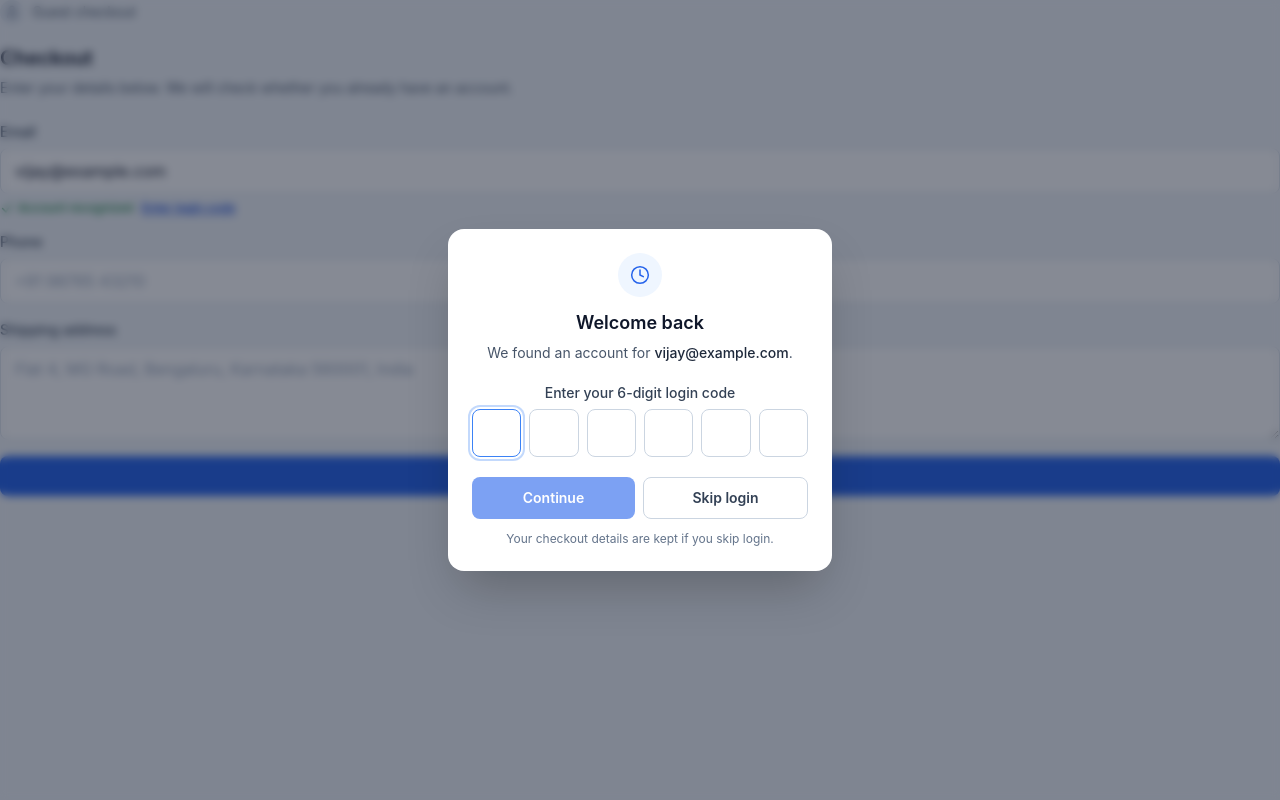
it: CheckoutForm › logs the user in with a correct code and shows their name
Expected: the dialog is shown, x1=448 y1=229 x2=832 y2=571
Type "482193" into the field named "login code digit 1 of 6" at (497, 433), box x1=472 y1=409 x2=521 y2=457
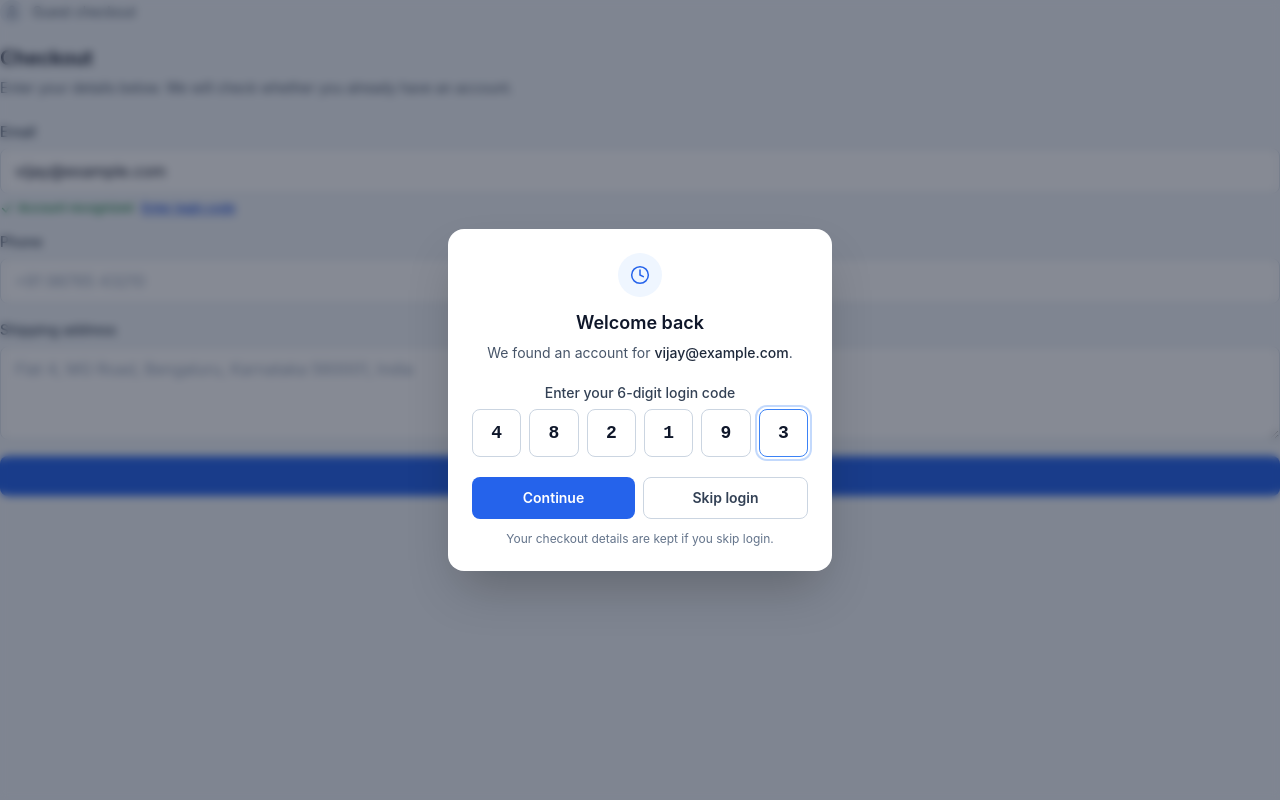
Click the button "Continue" at (554, 498), box x1=472 y1=477 x2=635 y2=519
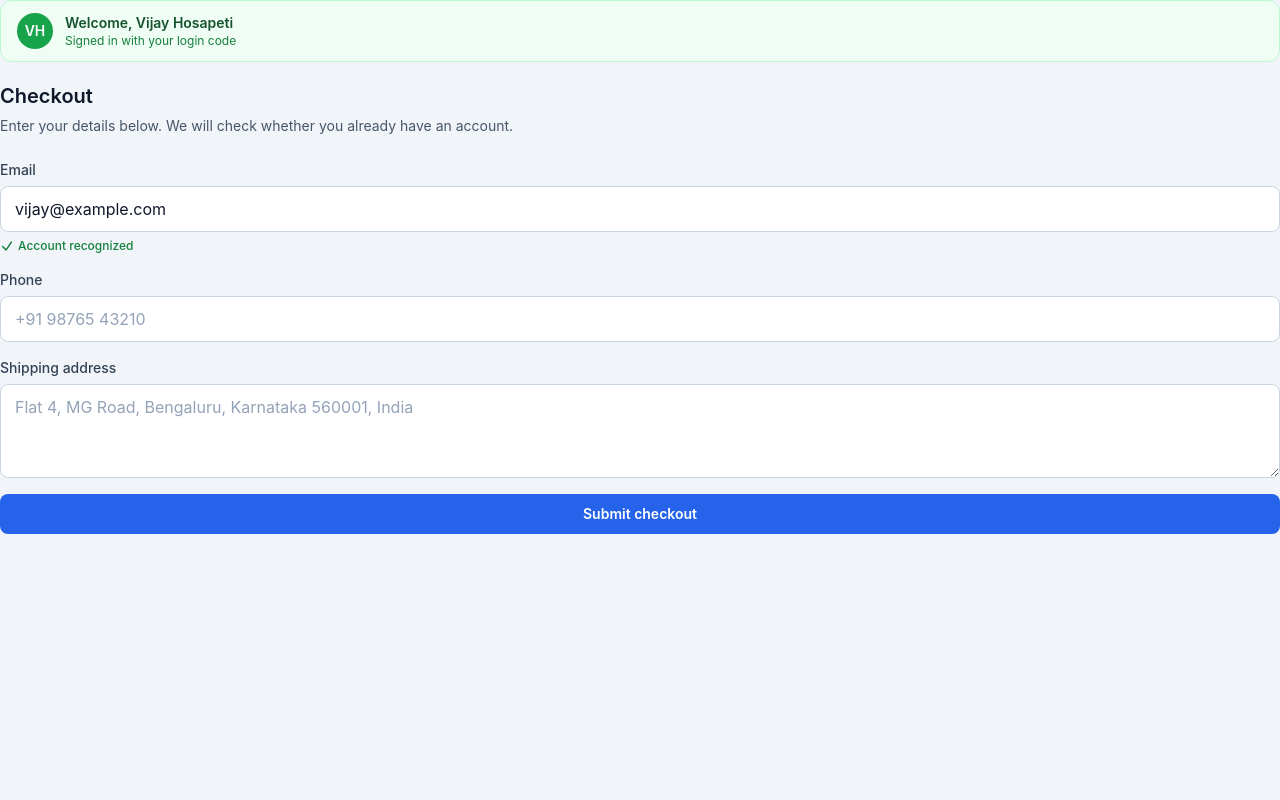
Expected: the field labelled "Email" holds "vijay@example.com", x1=0 y1=186 x2=1279 y2=232
Expected: the text "Welcome, Vijay Hosapeti" is shown, x1=65 y1=13 x2=236 y2=33
Expected: the dialog is gone
